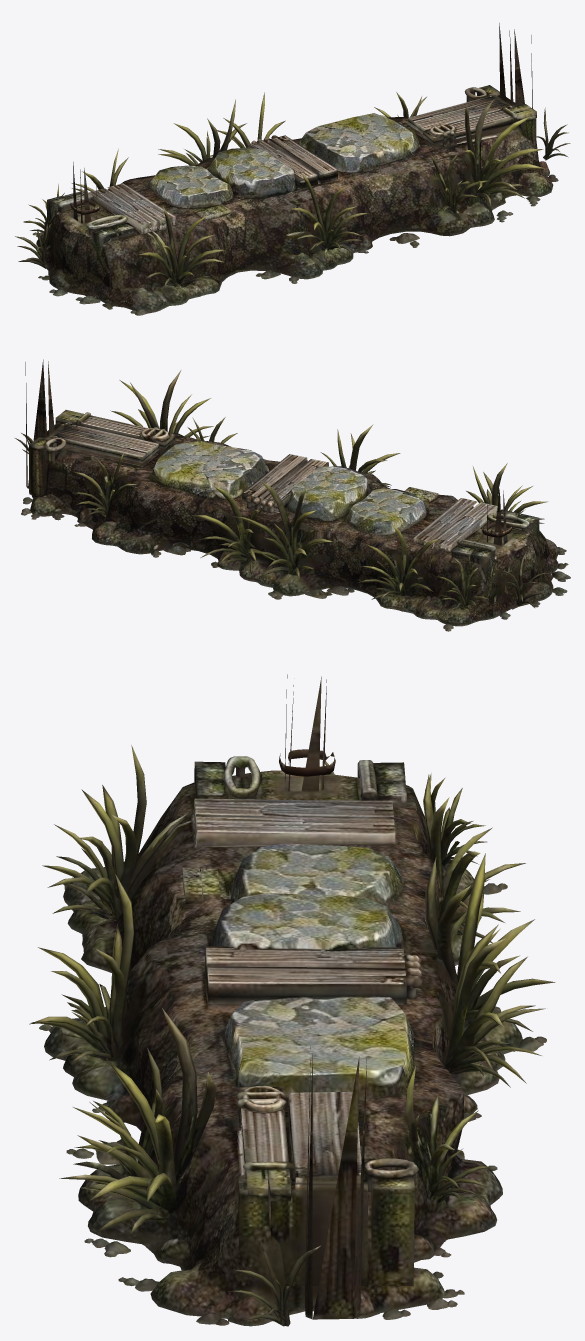
File: act1-a06-1-causeway-open.glb
The picture shows the model from 3 angles, top to bottom: view 1: azimuth 30°, elevation 25°; view 2: azimuth 150°, elevation 25°; view 3: azimuth 270°, elevation 25°; orthographic projection. The views are drawn at different scales.
Visible parts, largest first — view 1: act1-a06-1-causeway-open; view 2: act1-a06-1-causeway-open; view 3: act1-a06-1-causeway-open.
Boxes of the visible parts, x1,y1,x2,y2 form: act1-a06-1-causeway-open: (15, 23, 570, 315); act1-a06-1-causeway-open: (15, 359, 570, 631); act1-a06-1-causeway-open: (29, 674, 555, 1326).
Size of the model in its own units: 4 by 0.9704 by 1.71.
Materials: 1 (1 with a texture image).
